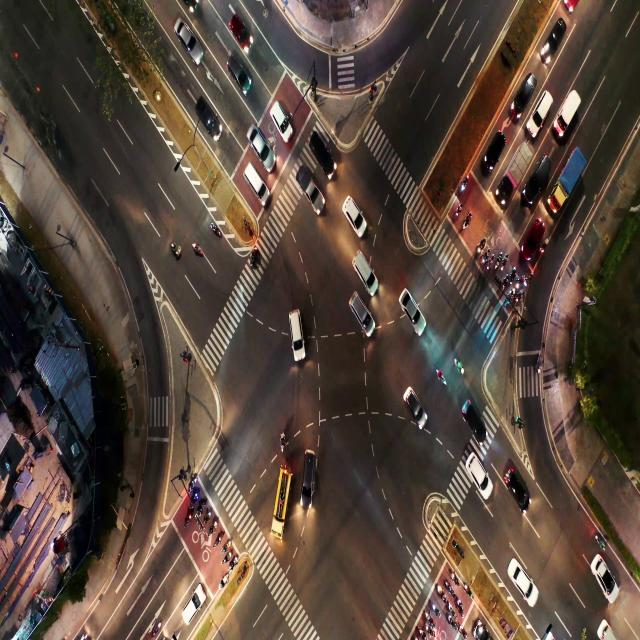bus: (270, 479, 286, 517)
car: (508, 560, 535, 598), (508, 468, 530, 511), (198, 94, 220, 136), (402, 288, 423, 331), (181, 12, 197, 67), (227, 54, 249, 94), (287, 312, 310, 348), (251, 119, 268, 167), (405, 390, 426, 426), (466, 400, 484, 440), (348, 294, 369, 328), (301, 451, 316, 498), (470, 454, 487, 494), (230, 14, 249, 49), (344, 197, 363, 231), (184, 587, 202, 621), (526, 220, 542, 252), (272, 98, 286, 134), (356, 251, 370, 287), (516, 78, 532, 109), (548, 21, 567, 47), (249, 165, 264, 197), (316, 134, 329, 170), (596, 562, 612, 590), (533, 97, 550, 121), (488, 134, 502, 162), (533, 158, 548, 184)
motorcycle: (245, 248, 258, 262), (464, 580, 473, 599), (458, 599, 466, 617), (436, 370, 446, 384), (170, 239, 179, 254), (278, 434, 286, 450), (209, 520, 217, 535), (438, 584, 445, 601), (211, 223, 220, 236), (455, 359, 464, 372), (459, 624, 467, 638), (444, 580, 453, 592), (194, 242, 202, 255), (185, 512, 192, 526), (447, 600, 454, 614), (464, 214, 471, 227), (448, 615, 455, 628), (452, 570, 458, 585), (215, 532, 222, 544), (494, 254, 500, 268), (432, 601, 439, 613), (516, 291, 521, 307), (538, 354, 542, 374), (455, 202, 461, 215), (483, 248, 489, 261), (525, 273, 530, 288), (508, 290, 514, 302), (418, 626, 424, 638), (502, 276, 507, 290), (511, 268, 516, 282), (425, 611, 432, 621), (426, 626, 433, 636), (190, 477, 196, 488), (206, 511, 212, 522), (221, 575, 227, 586), (502, 260, 508, 271), (462, 177, 467, 190), (225, 551, 231, 561), (223, 543, 230, 551), (199, 502, 204, 513), (479, 239, 484, 250), (192, 493, 196, 504), (488, 257, 492, 268), (517, 277, 521, 288), (543, 241, 547, 251), (230, 560, 235, 566)
truck: (300, 172, 317, 210), (559, 157, 575, 190), (508, 149, 520, 191), (562, 92, 578, 123)
